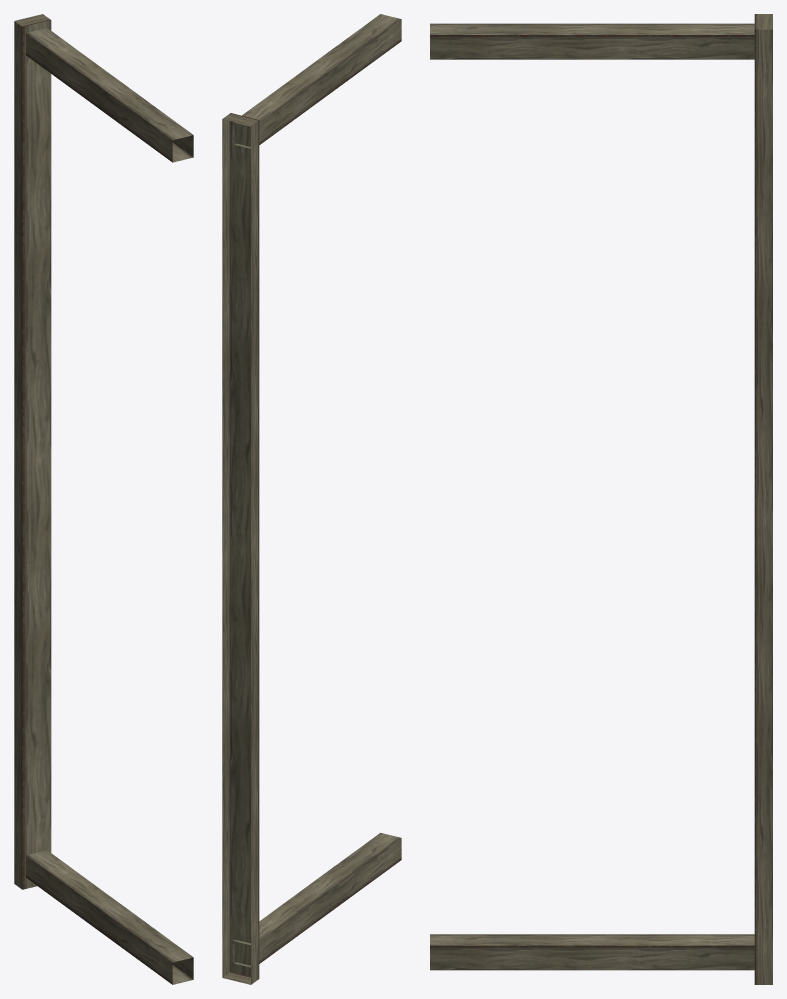
The model's file is Platform_Structure_B.fbx.
The picture shows the model from 3 angles, left to right: view 1: azimuth 30°, elevation 25°; view 2: azimuth 150°, elevation 25°; view 3: azimuth 270°, elevation 25°; orthographic projection. The views are drawn at different scales.
Visible parts, largest first — view 1: Platform_Structure_B; view 2: Platform_Structure_B; view 3: Platform_Structure_B.
Boxes of the visible parts, x1,y1,x2,y2 form: Platform_Structure_B: (14,14,193,984); Platform_Structure_B: (222,14,401,984); Platform_Structure_B: (430,14,772,984).
Bounding box in the file's own units: 0.4005 × 11.49 × 3.74.
